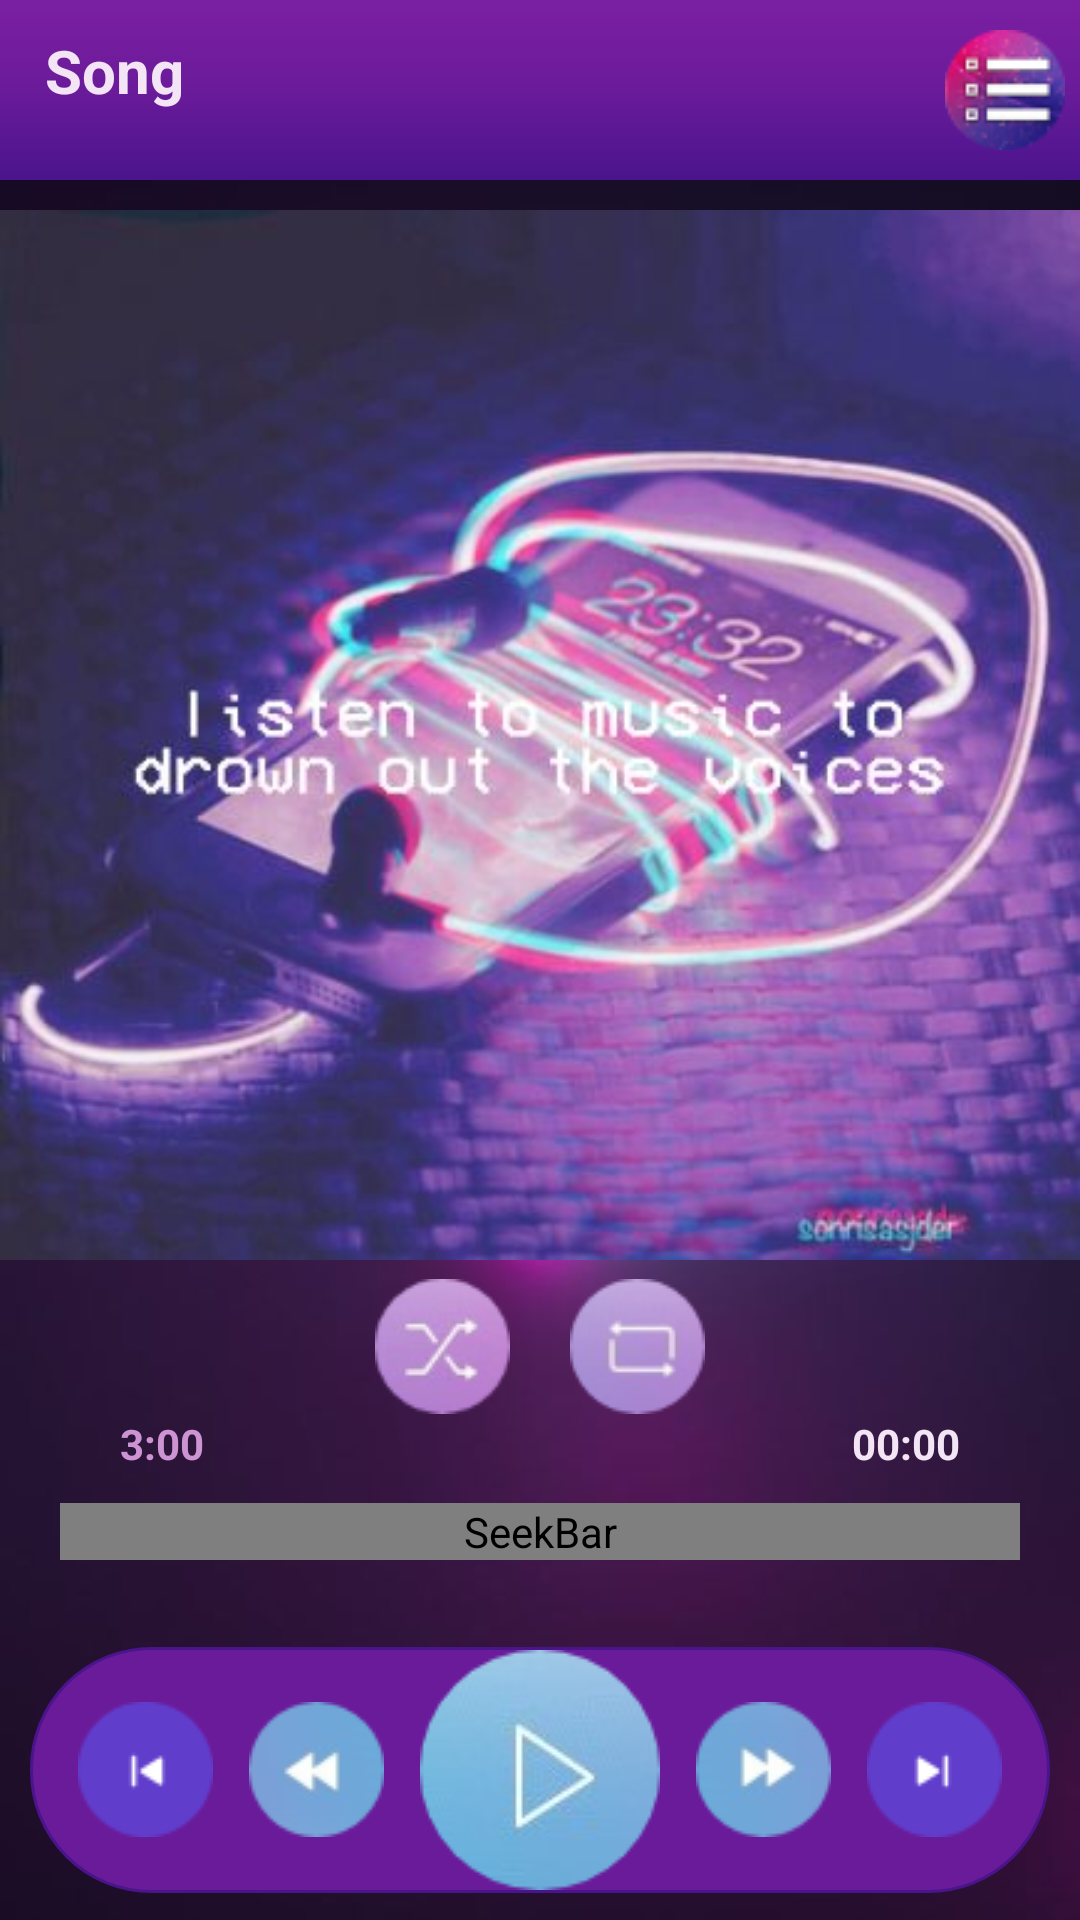

Where to tap for icons on this 1080*1920 app screen, as point (x, y):
backback: point (316, 1769)
forward: point (763, 1769)
menubar: point (1005, 90)
next: point (934, 1769)
play: point (540, 1770)
previous: point (145, 1769)
repeat: point (637, 1346)
shffle: point (442, 1346)
